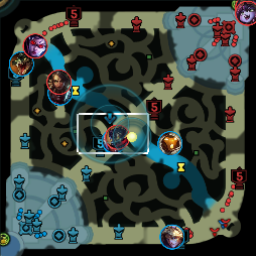bard: (158, 131, 181, 155)
ekko: (49, 84, 73, 106)
ezreal: (161, 225, 185, 249)
lulu: (235, 1, 256, 26)
nidalee: (46, 71, 72, 93)
renekton: (10, 52, 34, 76)
vayne: (23, 33, 47, 58)
viktor: (104, 126, 129, 149)
